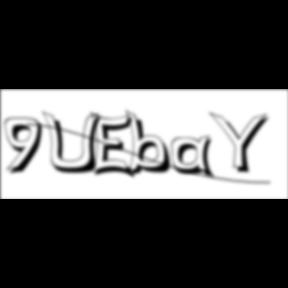9: (4, 117, 50, 177)
E: (91, 110, 140, 182)
U: (43, 110, 108, 176)
Y: (208, 110, 276, 176)
a: (172, 135, 220, 182)
b: (124, 109, 178, 179)
